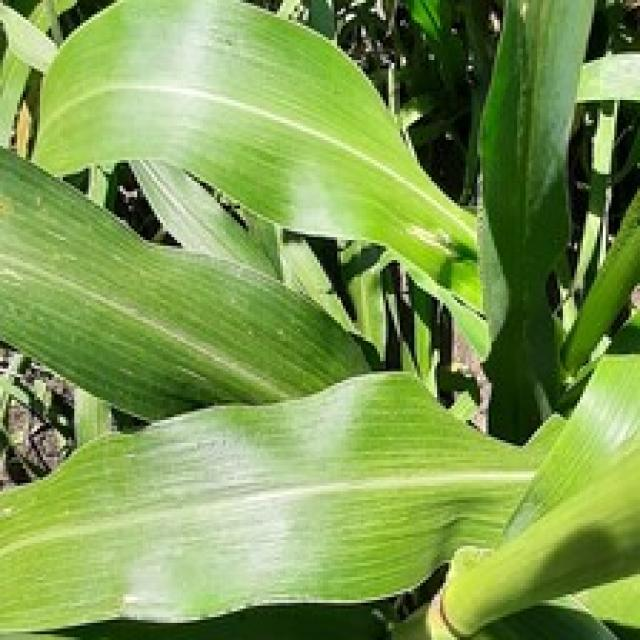Corn: (0, 0, 637, 637), (25, 0, 488, 354), (0, 366, 566, 637), (0, 108, 371, 422), (437, 346, 637, 637), (471, 0, 600, 443)
